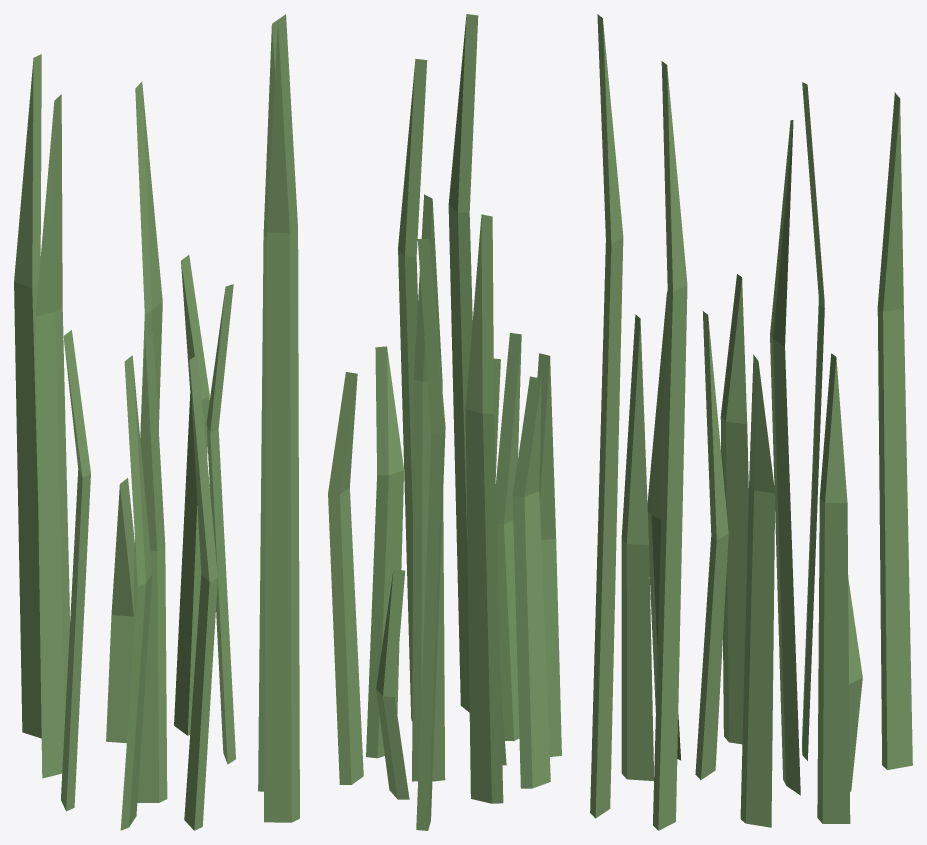
File: grass_2.glb
3 views of the same model, side by side, from view 1: azimuth 30°, elevation 25°; view 2: azimuth 150°, elevation 25°; view 3: azimuth 270°, elevation 25° (orthographic). The views are drawn at different scales.
Parts seen in each view (by area): view 1: Grass_2; view 2: Grass_2; view 3: Grass_2.
Part boxes in pixels (left/top/right/bottom): Grass_2: left=14, top=14, right=299, bottom=830; Grass_2: left=328, top=14, right=561, bottom=830; Grass_2: left=590, top=14, right=912, bottom=830.
Size of the model in its own units: 0.3162 by 1.2 by 0.4417.
